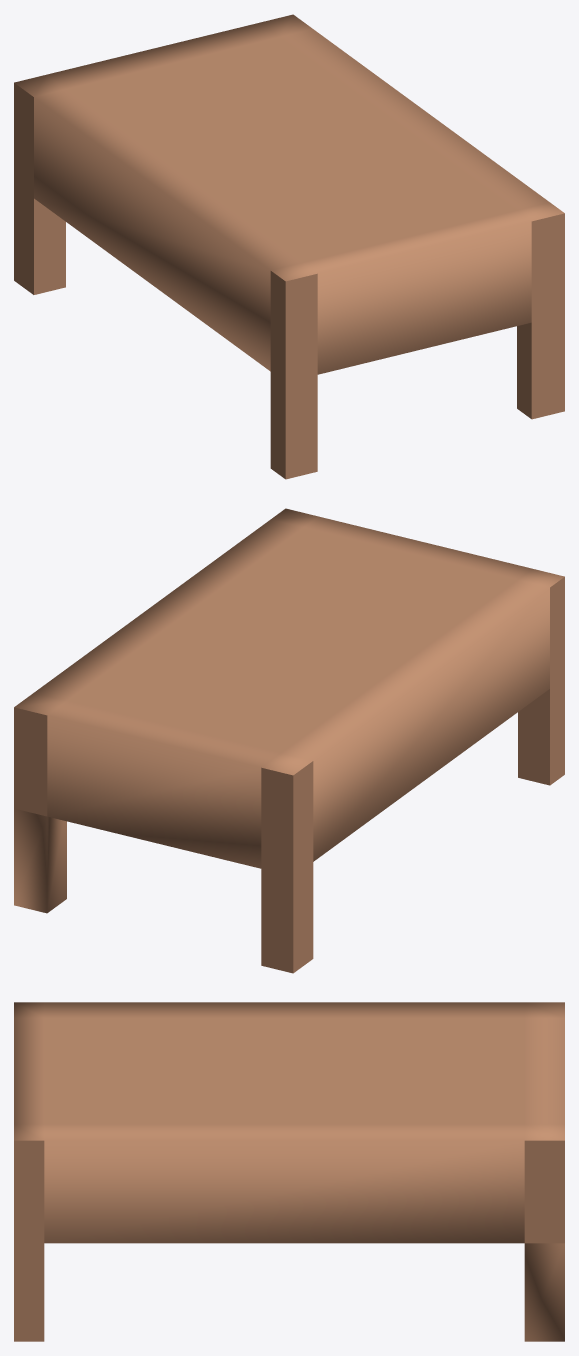
The model's file is MEJA.fbx.
The picture shows the model from 3 angles, top to bottom: view 1: azimuth 30°, elevation 25°; view 2: azimuth 150°, elevation 25°; view 3: azimuth 270°, elevation 25°; orthographic projection.
Parts seen in each view (by area): view 1: Plane; view 2: Plane; view 3: Plane.
Boxes of the visible parts, left/top/right/bottom form: Plane: left=14, top=14, right=564, bottom=479; Plane: left=14, top=508, right=564, bottom=973; Plane: left=14, top=1002, right=564, bottom=1341.
Bounding box in the file's own units: 200 × 136 × 337.
